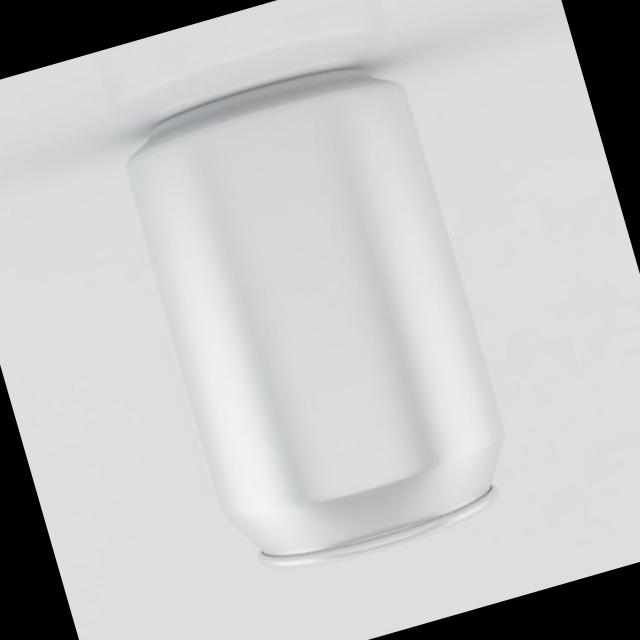Kaleng: (110, 48, 528, 592)
